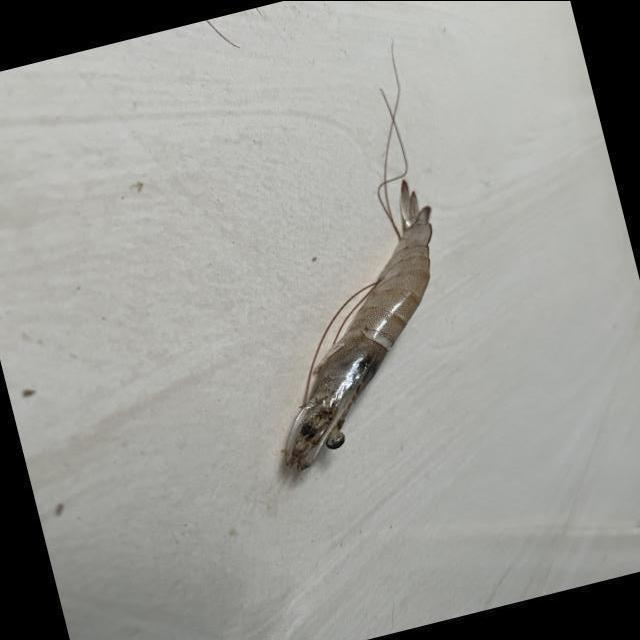shrimp: (286, 179, 432, 470)
